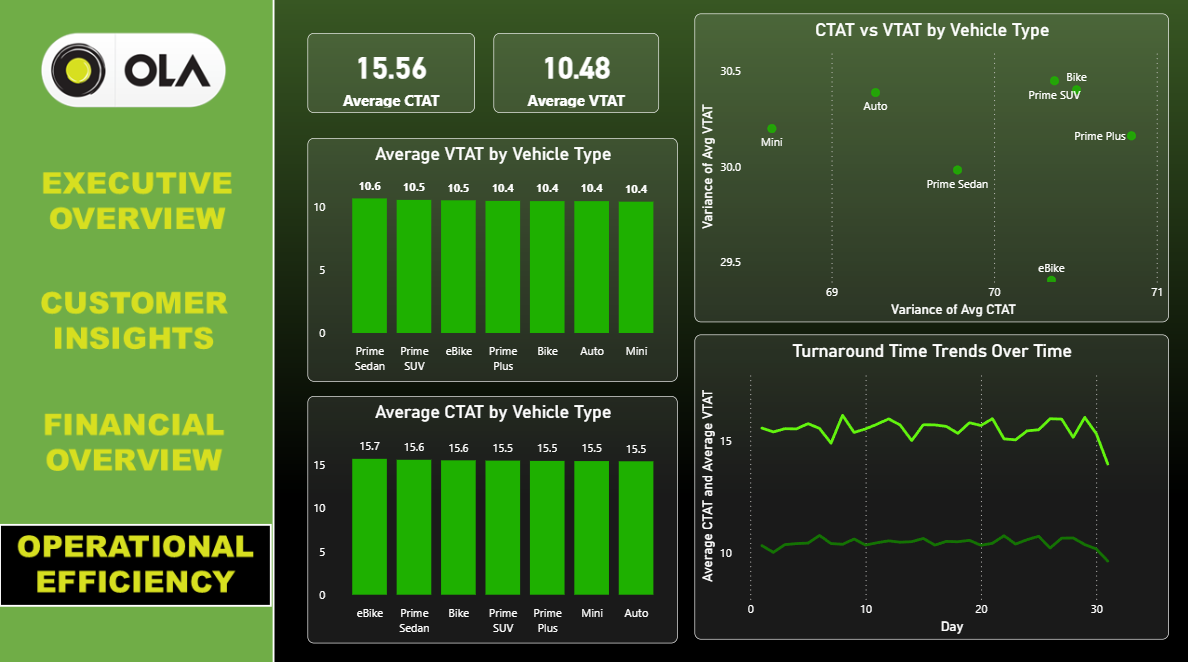

The page's visual inventory and layout, read from the dashboard file:
{"tool":"powerbi","page":{"name":"Page 4","canvas":[1280,720],"ordinal":3},"visuals":[{"type":"actionButton","box":[0,172,292.9,90.7],"z":0},{"type":"actionButton","box":[1.9,300.5,292.9,90.7],"z":1000},{"type":"actionButton","box":[1.9,425.2,292.9,90.7],"z":2000},{"type":"card","fields":{"Values":["Bengaluru_Ola_data_updated.Average CTAT"]},"box":[330,36,180,86],"z":3000},{"type":"card","fields":{"Values":["Bengaluru_Ola_data_updated.Average VTAT"]},"box":[530,36,178,86],"z":4000},{"type":"clusteredColumnChart","title":"Average VTAT by Vehicle Type","fields":{"Category":["Bengaluru_Ola_data_updated.Vehicle Type"],"Y":["Bengaluru_Ola_data_updated.Average VTAT"]},"box":[330,148,398,262],"z":5000},{"type":"clusteredColumnChart","title":"Average CTAT by Vehicle Type","fields":{"Category":["Bengaluru_Ola_data_updated.Vehicle Type"],"Y":["Avg(Bengaluru_Ola_data_updated.Avg CTAT)"]},"box":[330,426,398,266],"z":6000},{"type":"scatterChart","title":"CTAT vs VTAT by Vehicle Type","fields":{"X":["Sum(Bengaluru_Ola_data_updated.Avg CTAT)"],"Y":["Sum(Bengaluru_Ola_data_updated.Avg VTAT)"],"Category":["Bengaluru_Ola_data_updated.Vehicle Type"]},"box":[746,14,510,332],"z":7000},{"type":"lineChart","title":"Turnaround Time Trends Over Time","fields":{"Category":["Bengaluru_Ola_data_updated.Date.Variation.Date Hierarchy.Day"],"Y":["Bengaluru_Ola_data_updated.Average CTAT","Bengaluru_Ola_data_updated.Average VTAT"]},"box":[746,360,510,328],"z":8000}]}

Visuals, with their boxes in screenshot pixels (x1, y1, x2, y2), scaled from the page's 1280x720 canvas onto the 1188x662 screenshot:
actionButton: {"left": 0, "top": 158, "right": 272, "bottom": 242}
actionButton: {"left": 2, "top": 276, "right": 274, "bottom": 360}
actionButton: {"left": 2, "top": 391, "right": 274, "bottom": 474}
card - Bengaluru_Ola_data_updated.Average CTAT: {"left": 306, "top": 33, "right": 473, "bottom": 112}
card - Bengaluru_Ola_data_updated.Average VTAT: {"left": 492, "top": 33, "right": 657, "bottom": 112}
"Average VTAT by Vehicle Type" clusteredColumnChart: {"left": 306, "top": 136, "right": 676, "bottom": 377}
"Average CTAT by Vehicle Type" clusteredColumnChart: {"left": 306, "top": 392, "right": 676, "bottom": 636}
"CTAT vs VTAT by Vehicle Type" scatterChart: {"left": 692, "top": 13, "right": 1166, "bottom": 318}
"Turnaround Time Trends Over Time" lineChart: {"left": 692, "top": 331, "right": 1166, "bottom": 633}
